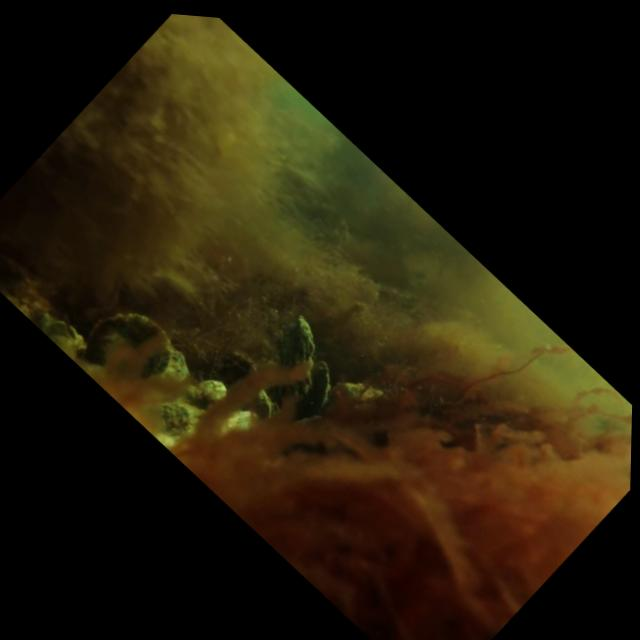Oyster-Closed: (271, 307, 320, 403), (309, 355, 332, 419)
Oyster-Indeterminate: (82, 310, 177, 382), (329, 378, 386, 414)
